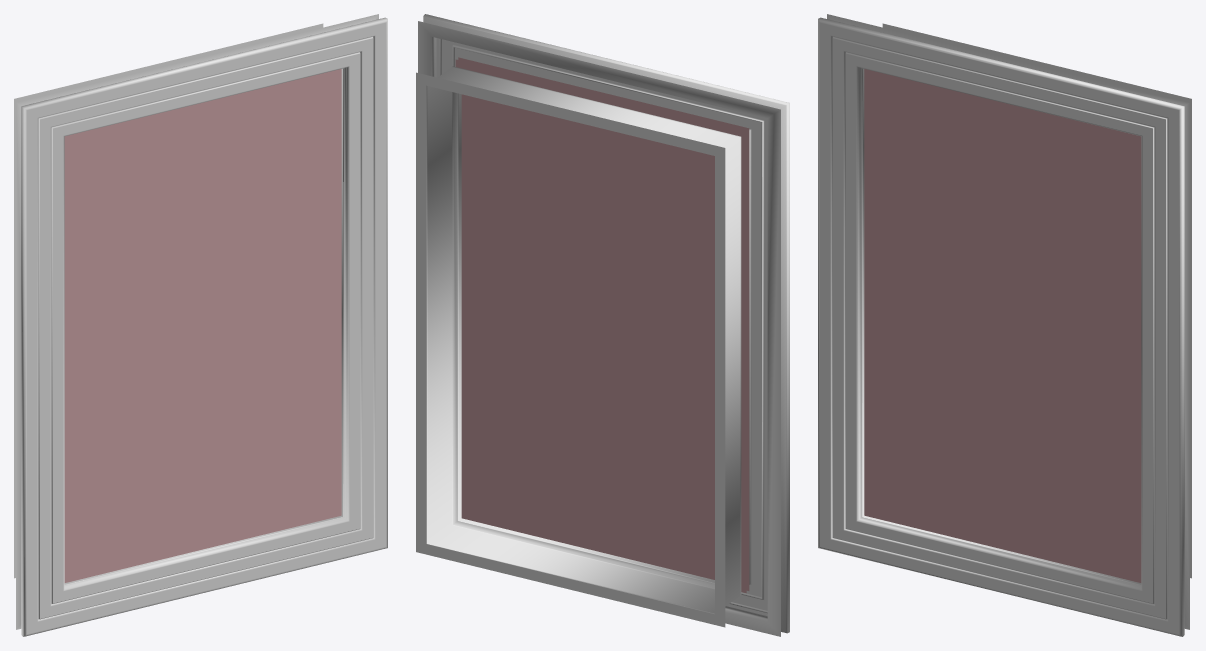
File: WindowFixedSingle.fbx
3 renders of one model, left to right at view 1: azimuth 30°, elevation 25°; view 2: azimuth 150°, elevation 25°; view 3: azimuth 330°, elevation 25°, orthographic.
Parts seen in each view (by area): view 1: Window_LOD0; view 2: Window_LOD0; view 3: Window_LOD0.
Boxes of the visible parts, box(x1,y1,x2,y2) form: Window_LOD0: box(14, 14, 387, 636); Window_LOD0: box(416, 14, 789, 636); Window_LOD0: box(818, 14, 1191, 636).
Size of what is drawn, in the model's own units: 273 by 379 by 49.03.
